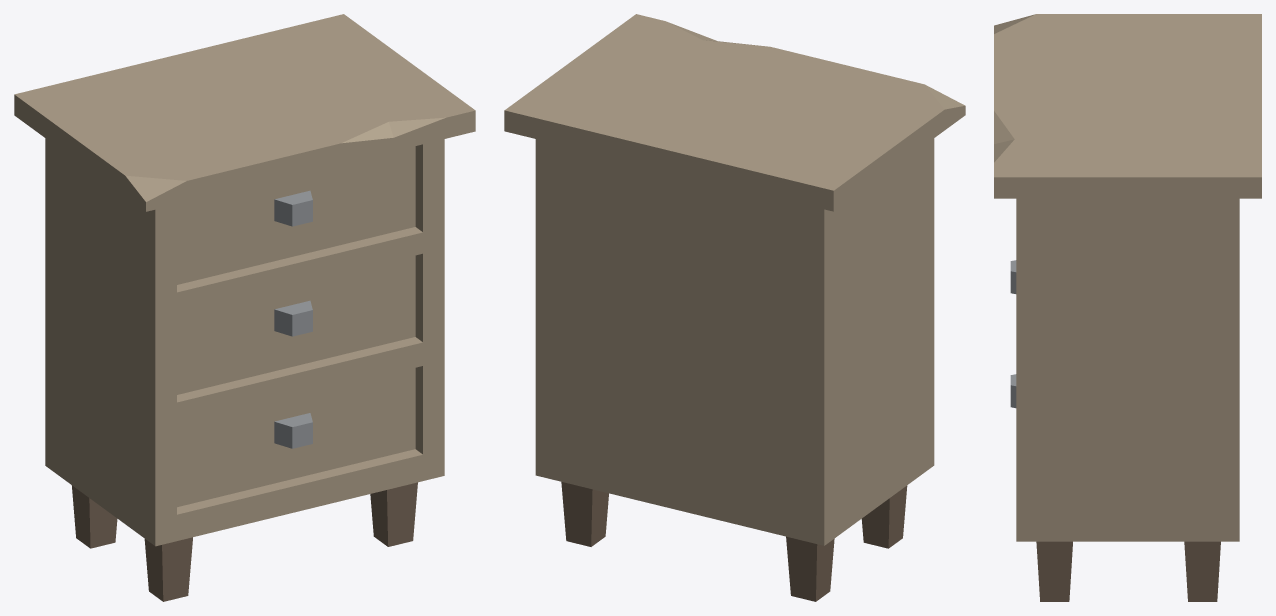
File: SM_Prop_Dresser_02.fbx
The picture shows the model from 3 angles, left to right: view 1: azimuth 30°, elevation 25°; view 2: azimuth 150°, elevation 25°; view 3: azimuth 270°, elevation 25°; orthographic projection.
Parts seen in each view (by area): view 1: SM_Prop_Dresser_02; view 2: SM_Prop_Dresser_02; view 3: SM_Prop_Dresser_02.
Boxes of the visible parts, x1,y1,x2,y2 form: SM_Prop_Dresser_02: (14, 14, 475, 601); SM_Prop_Dresser_02: (504, 14, 965, 601); SM_Prop_Dresser_02: (994, 14, 1261, 601).
Bounding box in the file's own units: 64.41 × 81.67 × 44.62.
